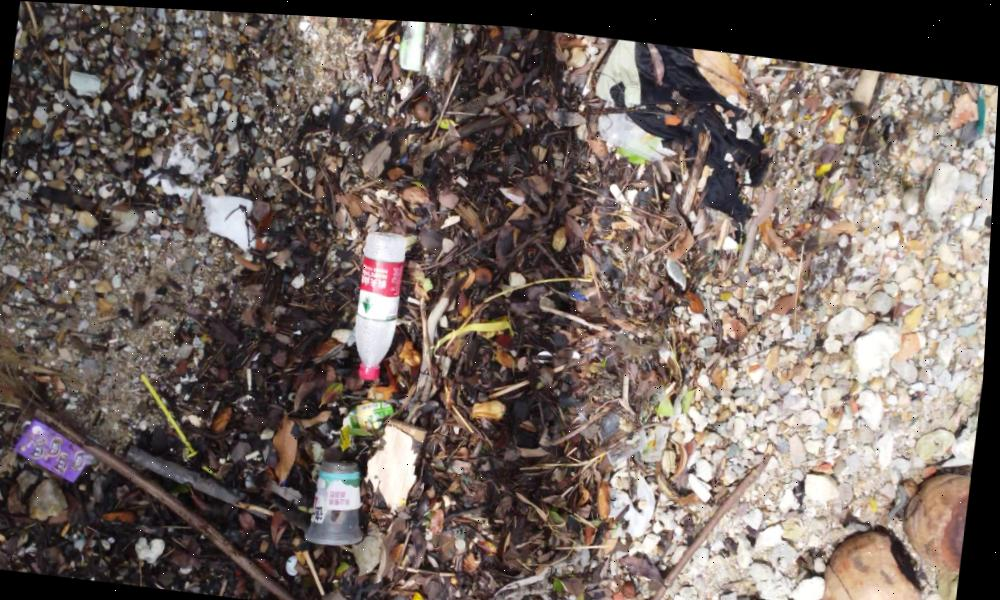carton: (24, 414, 107, 490)
plastic bottle: (344, 217, 420, 387)
plastic container: (305, 448, 380, 565)
